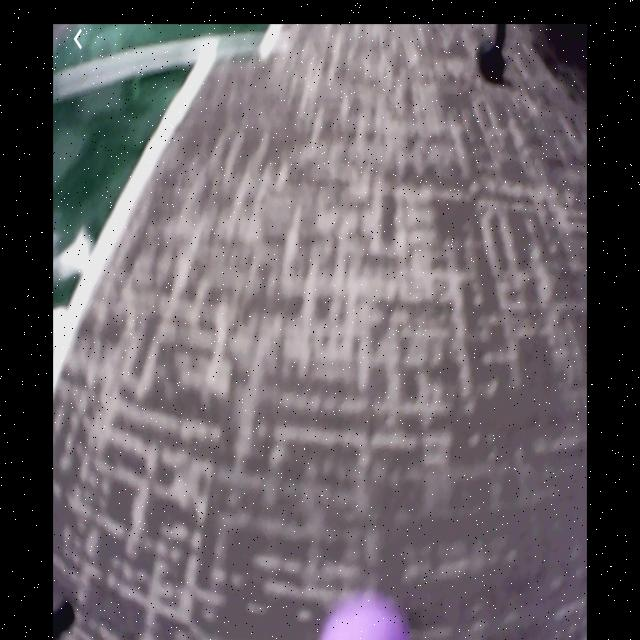ball: (321, 598, 412, 640)
